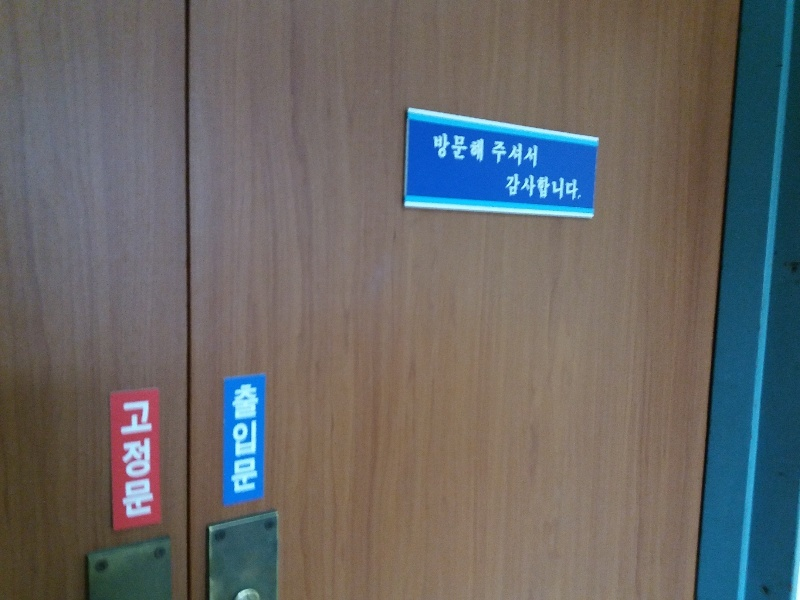text: (129, 399, 144, 522), (241, 381, 256, 497), (145, 399, 155, 522), (119, 399, 128, 522), (231, 381, 240, 497), (433, 130, 448, 165), (449, 130, 464, 165), (465, 130, 480, 165), (497, 138, 512, 170), (513, 138, 528, 170), (513, 170, 528, 202), (529, 170, 544, 202), (545, 170, 560, 202), (561, 170, 576, 202), (529, 138, 540, 170), (257, 381, 259, 497), (505, 170, 512, 202), (577, 170, 583, 202), (492, 138, 496, 170), (481, 130, 484, 165)
